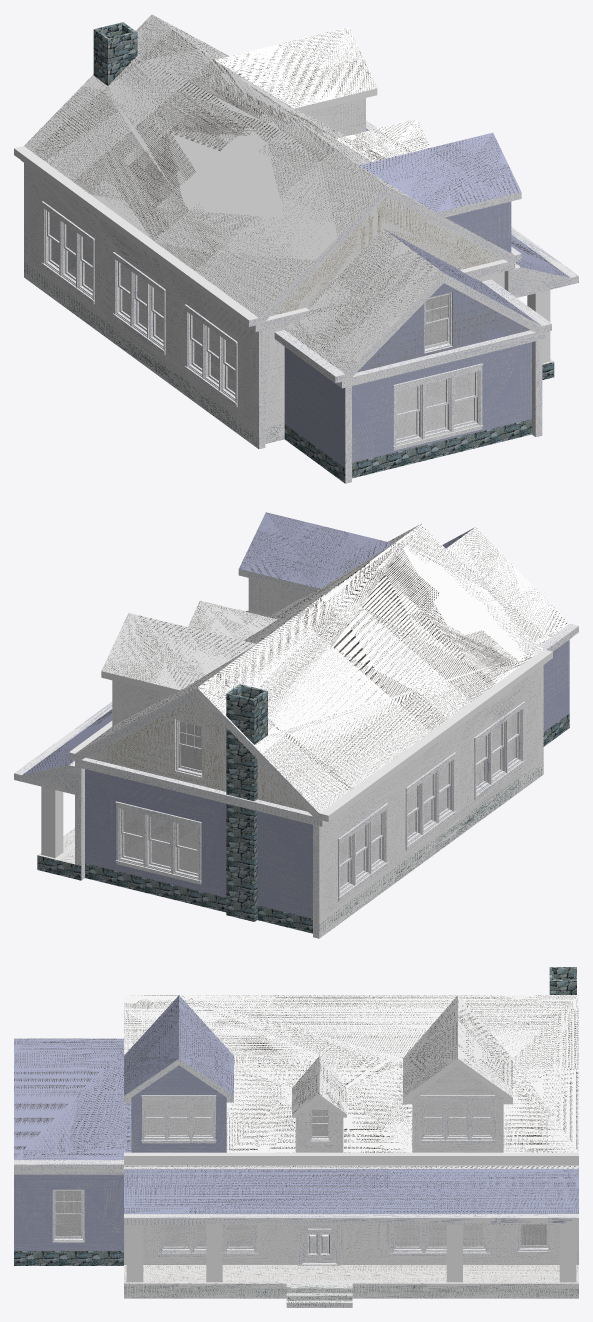
The model's file is farmhouse.dae.
The picture shows the model from 3 angles, top to bottom: view 1: azimuth 30°, elevation 25°; view 2: azimuth 150°, elevation 25°; view 3: azimuth 270°, elevation 25°; orthographic projection. The views are drawn at different scales.
Visible parts, largest first — view 1: Model, Window-3lite_8_-6x5_-4 (×4), Upper_sash, Lower_sash; view 2: Model, Window-3lite_8_-6x5_-4 (×4), Upper_sash, Lower_sash; view 3: Model, Window-3lite_8_-6x5_-4 (×4), Door-SglExtHeaderWLite_3_-0x6_-8, Lower_sash (×2), Upper_sash, WindowDoubleHung35x63.
Boxes of the visible parts, box(x1,y1,x2,y2) form: Model: box(14, 14, 578, 483); Window-3lite_8_-6x5_-4 (×4): box(41, 201, 483, 450); Upper_sash: box(425, 293, 449, 324); Lower_sash: box(425, 318, 448, 348); Model: box(14, 512, 578, 938); Window-3lite_8_-6x5_-4 (×4): box(115, 702, 524, 901); Upper_sash: box(178, 720, 201, 749); Lower_sash: box(179, 744, 201, 773); Model: box(14, 967, 578, 1307); Window-3lite_8_-6x5_-4 (×4): box(141, 1095, 494, 1256); Door-SglExtHeaderWLite_3_-0x6_-8: box(298, 1224, 340, 1265); Lower_sash (×2): box(54, 1214, 548, 1247); Upper_sash: box(54, 1190, 82, 1214); WindowDoubleHung35x63: box(52, 1189, 84, 1242).
Bounding box in the file's own units: 402 × 616 × 270.
Materials: 11 (5 with a texture image).
